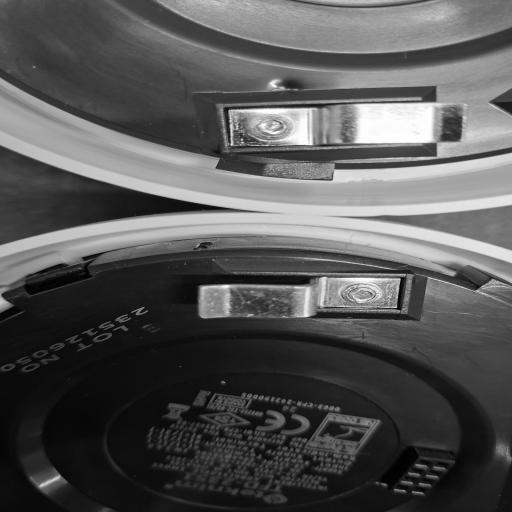yaysiz: (200, 86, 506, 176), (168, 266, 430, 326)
